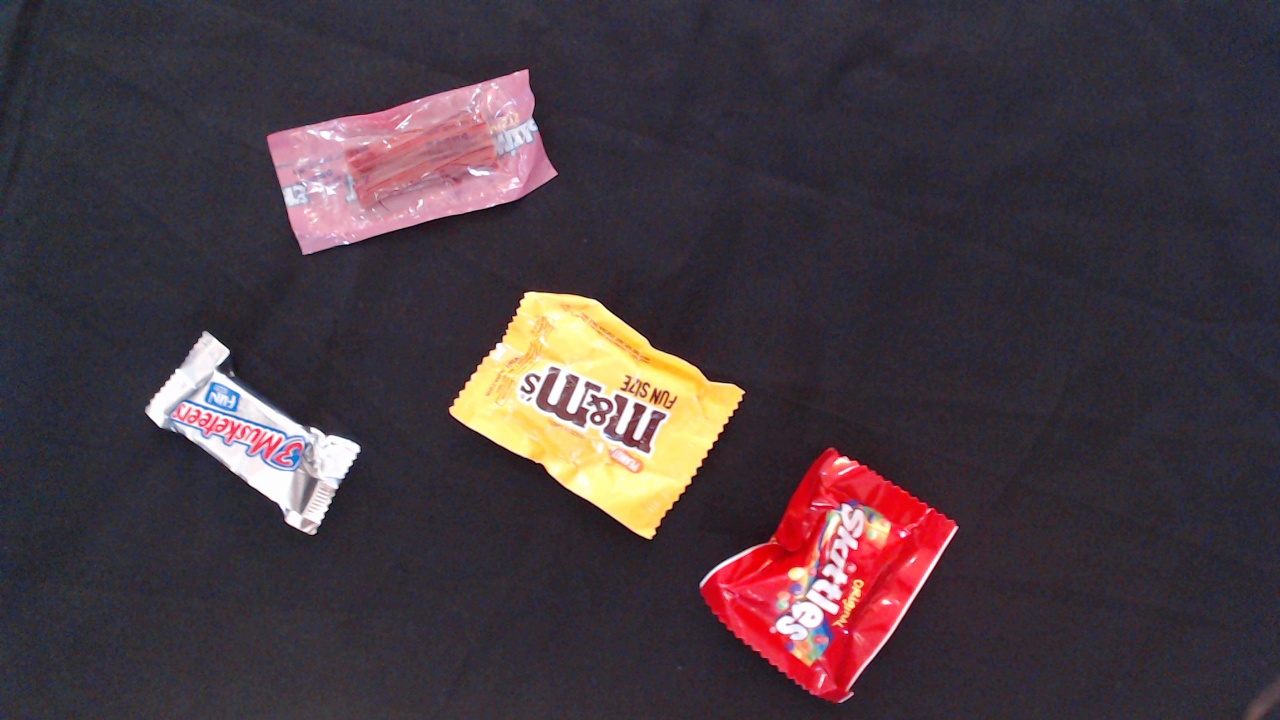MMs_peanut: (418, 266, 739, 550)
skittles: (721, 440, 963, 697)
three_musketeers: (118, 331, 379, 554)
twizzlers: (228, 92, 587, 244)
